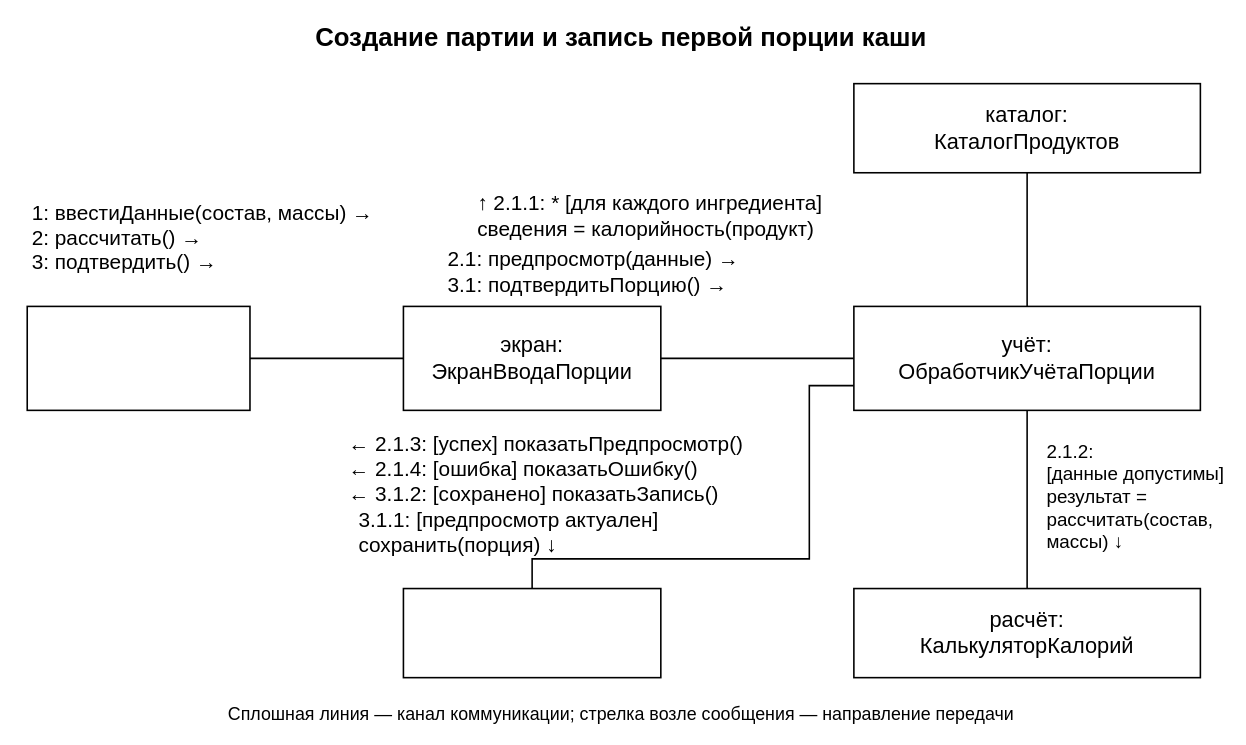
The diagram is 1246 pixels wide and 745 high, and some of its shapes have lost their labels. The shapes that lost their labels are listed below. From the top down, each one's centre as x and y in pixels, then its label:
pixel 138 358: пользователь: Пользователь
pixel 531 632: дневник: ДневникПитания
